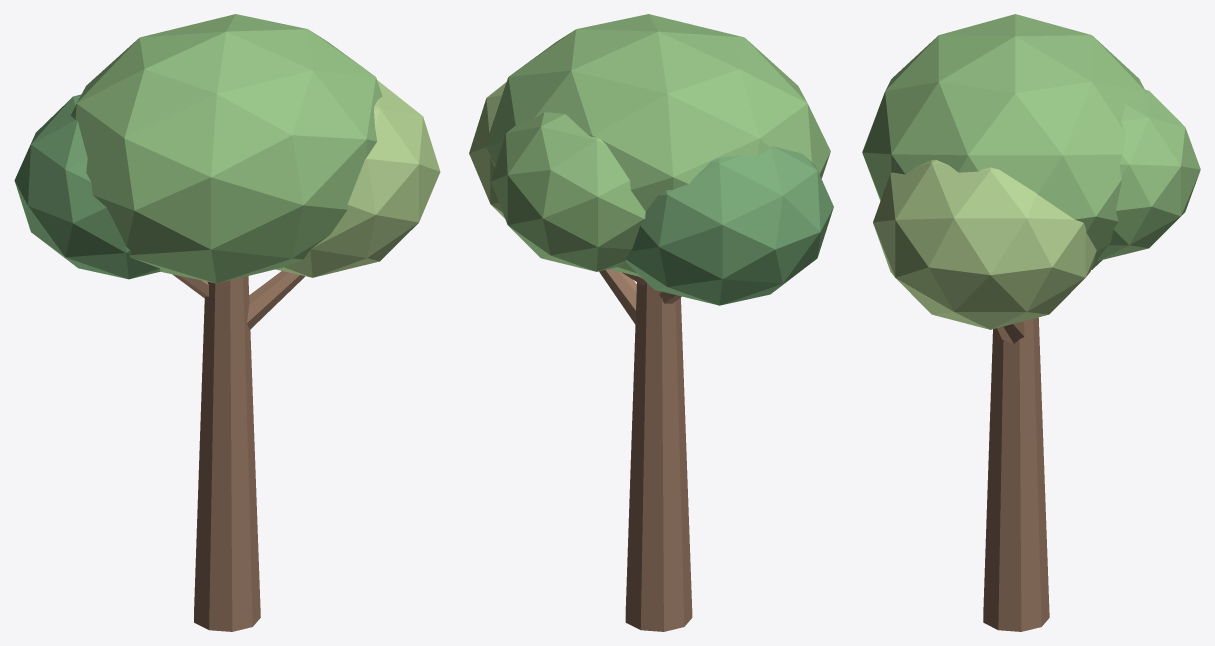
The model's file is tree_a_tall_broad.glb.
3 views of the same model, side by side, from view 1: azimuth 30°, elevation 25°; view 2: azimuth 150°, elevation 25°; view 3: azimuth 270°, elevation 25° (orthographic).
Parts seen in each view (by area): view 1: canopy_0, trunk, canopy_1, canopy_2, branch_0; view 2: canopy_0, canopy_2, trunk, canopy_3, canopy_1, branch_0; view 3: canopy_0, canopy_1, trunk, canopy_3.
Boxes of the visible parts, x1,y1,x2,y2 form: canopy_0: [71, 14, 382, 283]; trunk: [194, 276, 260, 631]; canopy_1: [276, 80, 440, 277]; canopy_2: [14, 94, 160, 279]; branch_0: [247, 271, 304, 329]; canopy_0: [485, 14, 830, 276]; canopy_2: [625, 146, 833, 305]; trunk: [625, 282, 692, 631]; canopy_3: [491, 112, 645, 271]; canopy_1: [469, 82, 506, 218]; branch_0: [599, 269, 636, 324]; canopy_0: [862, 14, 1146, 269]; canopy_1: [873, 160, 1096, 329]; trunk: [983, 317, 1049, 631]; canopy_3: [1096, 89, 1200, 260].
Size of the model in its own units: 5.9 by 9 by 4.75.
